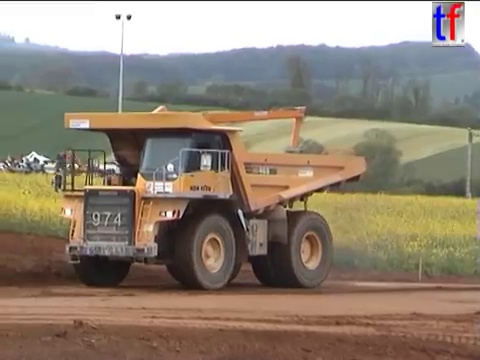excavator: (104, 102, 314, 215)
truck: (49, 103, 371, 293)
